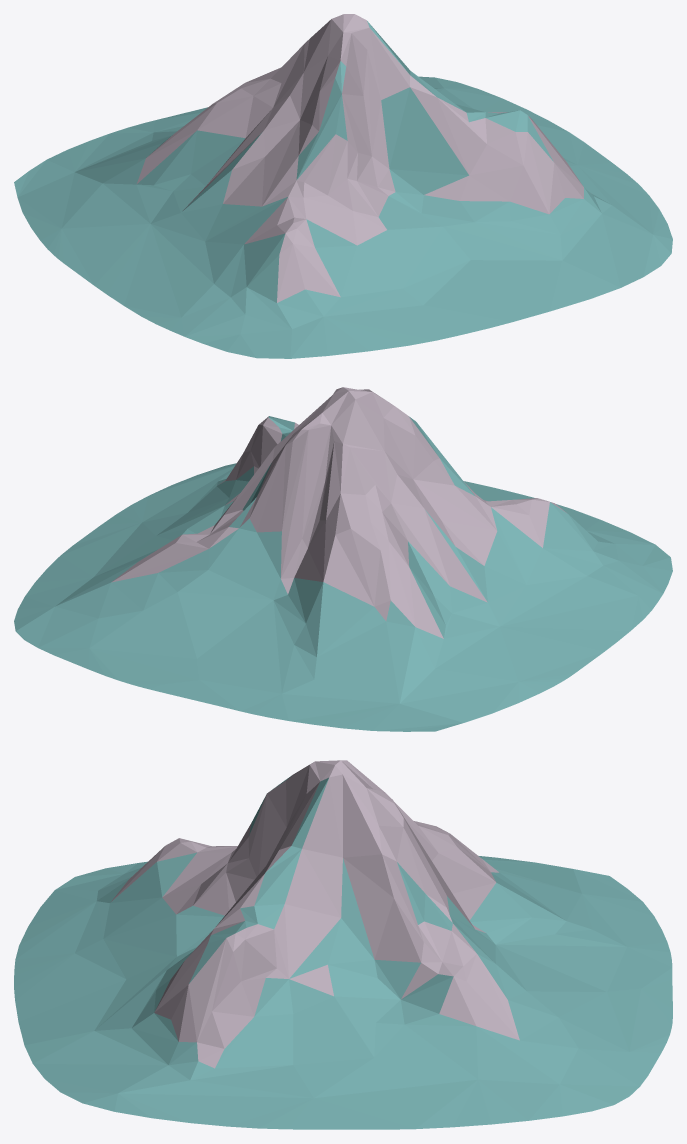
The model's file is SM_Generic_Mountains_Grass_02.fbx.
The picture shows the model from 3 angles, top to bottom: view 1: azimuth 30°, elevation 25°; view 2: azimuth 150°, elevation 25°; view 3: azimuth 270°, elevation 25°; orthographic projection. The views are drawn at different scales.
Visible parts, largest first — view 1: SM_Generic_Mountains_Grass_02; view 2: SM_Generic_Mountains_Grass_02; view 3: SM_Generic_Mountains_Grass_02.
Boxes of the visible parts, x1,y1,x2,y2 form: SM_Generic_Mountains_Grass_02: (14, 14, 672, 358); SM_Generic_Mountains_Grass_02: (14, 387, 672, 731); SM_Generic_Mountains_Grass_02: (14, 760, 672, 1129).
Bounding box in the file's own units: 14.5 × 5.54 × 14.49.
Materials: 1 (1 with a texture image).
